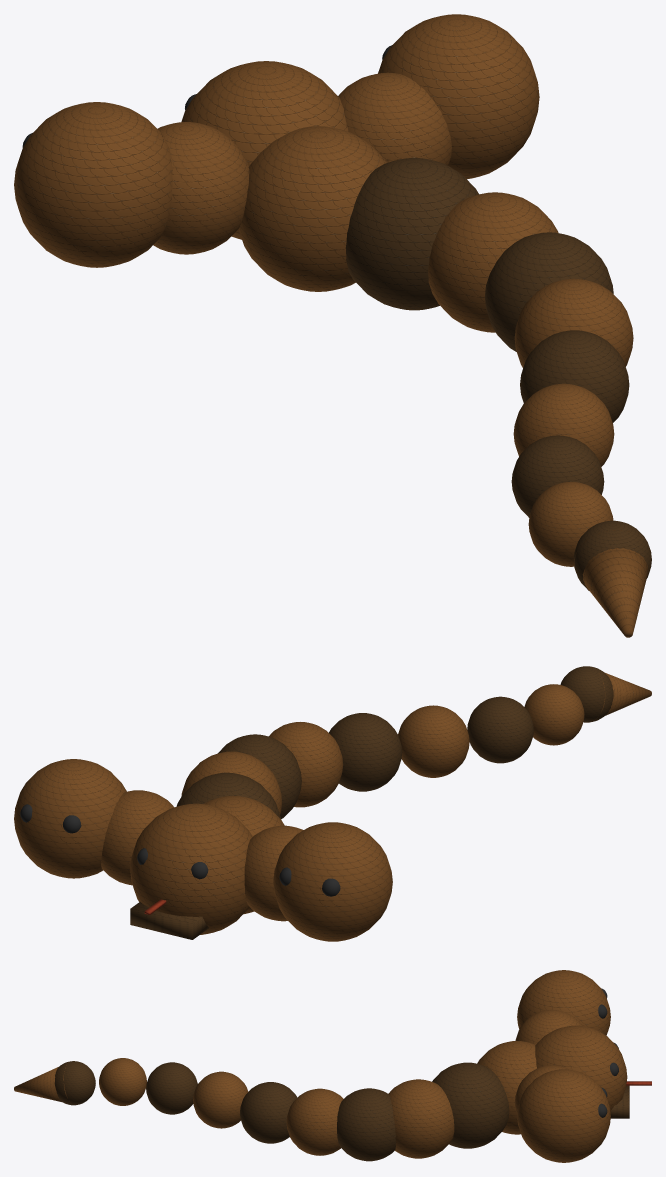
Rendered from zmey.glb.
The picture shows the model from 3 angles, top to bottom: view 1: azimuth 30°, elevation 25°; view 2: azimuth 150°, elevation 25°; view 3: azimuth 270°, elevation 25°; orthographic projection. The views are drawn at different scales.
Visible parts, largest first — view 1: HeadExtra, Segment0, HeadExtra.001, Segment1, Head, Segment2, NeckExtra, NeckExtra.001, Segment3, Segment4, Segment5, Segment6 (+4 smaller); view 2: Head, HeadExtra, HeadExtra.001, Segment5, Segment6, Segment4, Segment7, NeckExtra.001, NeckExtra, Segment8, Segment3, Segment2 (+5 smaller); view 3: HeadExtra.001, Segment1, Segment2, Head, HeadExtra, Segment3, Segment4, Segment5, Segment6, Segment0, Segment7, Segment8 (+5 smaller).
Part boxes in pixels (left/top/right/bottom): HeadExtra: left=14, top=102, right=172, bottom=267; Segment0: left=238, top=126, right=386, bottom=291; HeadExtra.001: left=378, top=14, right=539, bottom=179; Segment1: left=345, top=158, right=478, bottom=310; Head: left=181, top=61, right=348, bottom=239; Segment2: left=428, top=192, right=558, bottom=332; NeckExtra: left=153, top=122, right=249, bottom=254; NeckExtra.001: left=338, top=72, right=451, bottom=165; Segment3: left=485, top=232, right=613, bottom=351; Segment4: left=514, top=278, right=633, bottom=367; Segment5: left=520, top=330, right=629, bottom=422; Segment6: left=513, top=383, right=614, bottom=466; Head: left=130, top=803, right=252, bottom=934; HeadExtra: left=273, top=822, right=392, bottom=941; HeadExtra.001: left=14, top=759, right=126, bottom=878; Segment5: left=329, top=713, right=402, bottom=791; Segment6: left=398, top=705, right=469, bottom=777; Segment4: left=269, top=722, right=343, bottom=807; Segment7: left=467, top=696, right=533, bottom=763; NeckExtra.001: left=101, top=790, right=174, bottom=885; NeckExtra: left=244, top=825, right=303, bottom=921; Segment8: left=524, top=684, right=584, bottom=745; Segment3: left=218, top=734, right=301, bottom=819; Segment2: left=181, top=751, right=282, bottom=814; HeadExtra.001: left=517, top=1069, right=610, bottom=1162; Segment1: left=432, top=1062, right=509, bottom=1148; Segment2: left=388, top=1079, right=454, bottom=1158; Head: left=535, top=1025, right=627, bottom=1110; HeadExtra: left=517, top=970, right=610, bottom=1035; Segment3: left=337, top=1088, right=395, bottom=1161; Segment4: left=286, top=1088, right=343, bottom=1155; Segment5: left=240, top=1082, right=297, bottom=1143; Segment6: left=193, top=1071, right=248, bottom=1128; Segment0: left=477, top=1041, right=536, bottom=1134; Segment7: left=146, top=1062, right=197, bottom=1114; Segment8: left=99, top=1058, right=146, bottom=1105.
Size of the model in its own units: 1.11 by 0.3966 by 2.16.
Materials: 4 (3 with a texture image).
